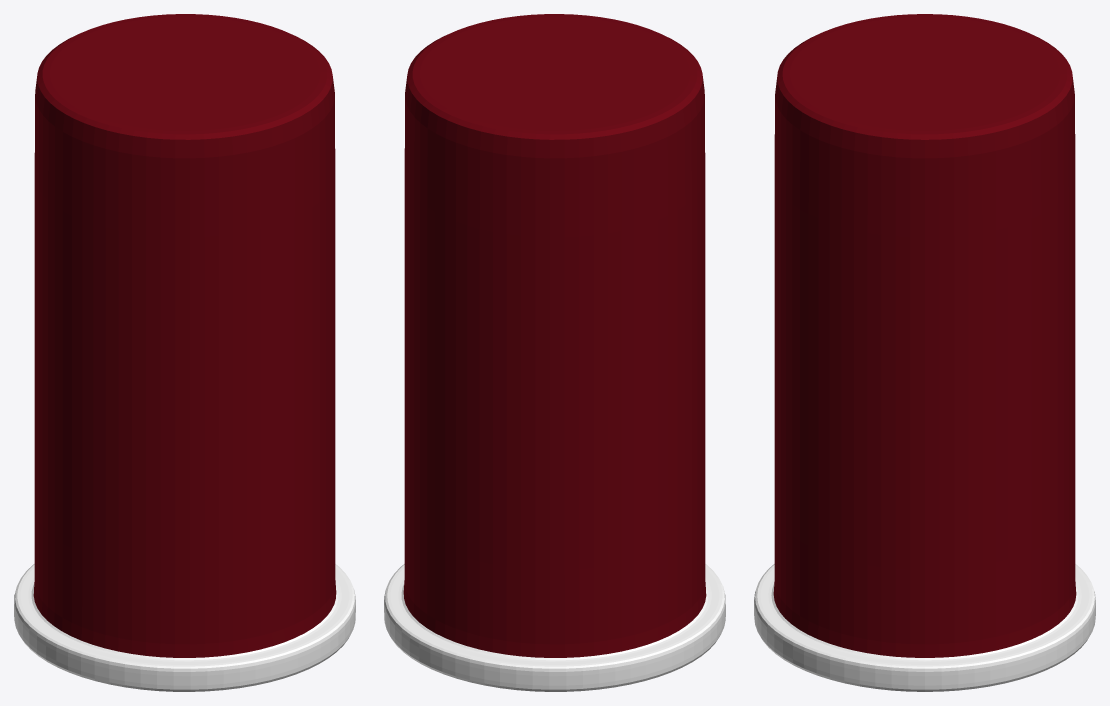
Rendered from SHOTGUN_BULLET.fbx.
The picture shows the model from 3 angles, left to right: view 1: azimuth 30°, elevation 25°; view 2: azimuth 150°, elevation 25°; view 3: azimuth 270°, elevation 25°; orthographic projection.
Visible parts, largest first — view 1: Shotgun_Handle.001; view 2: Shotgun_Handle.001; view 3: Shotgun_Handle.001.
Boxes of the visible parts, box(x1,y1,x2,y2) form: Shotgun_Handle.001: box(14, 14, 355, 691); Shotgun_Handle.001: box(384, 14, 725, 691); Shotgun_Handle.001: box(754, 14, 1095, 691).
Bounding box in the file's own units: 6.17 × 10.92 × 6.17.
